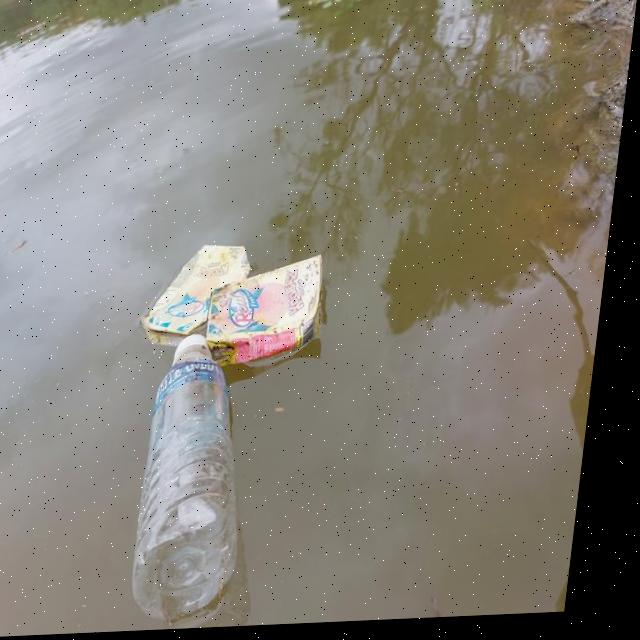paper: (145, 224, 344, 367)
waterbottle: (133, 323, 281, 624)
